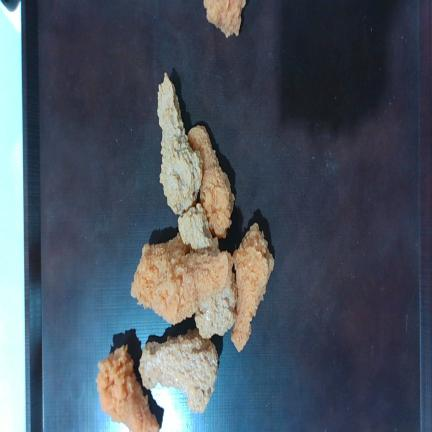chicken: (131, 234, 233, 324), (139, 329, 218, 413), (157, 73, 202, 215), (231, 223, 274, 352), (96, 345, 159, 431), (188, 126, 234, 238)
